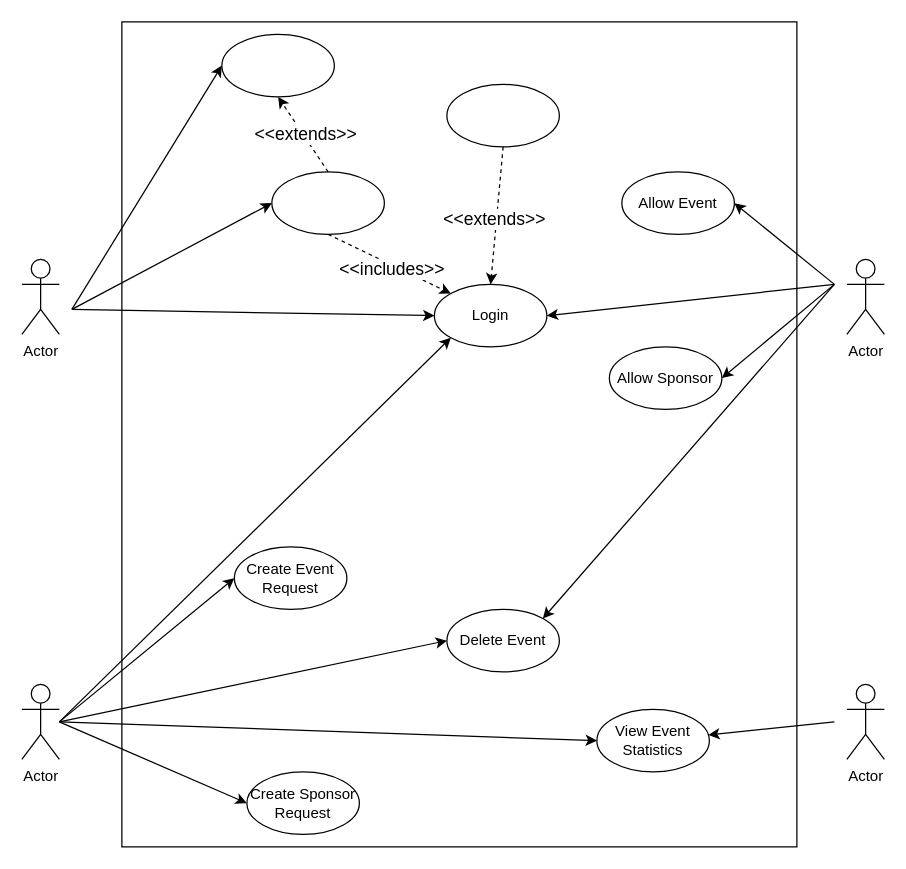
Some shapes in this 906 by 869 pixel diagram are drawn without their labels. Here are the shapes that lost their labels. From the top down, the box of each, then its label:
(221, 33, 334, 97): View Events
(446, 83, 559, 147): Sign Up
(271, 171, 384, 234): Book Events
